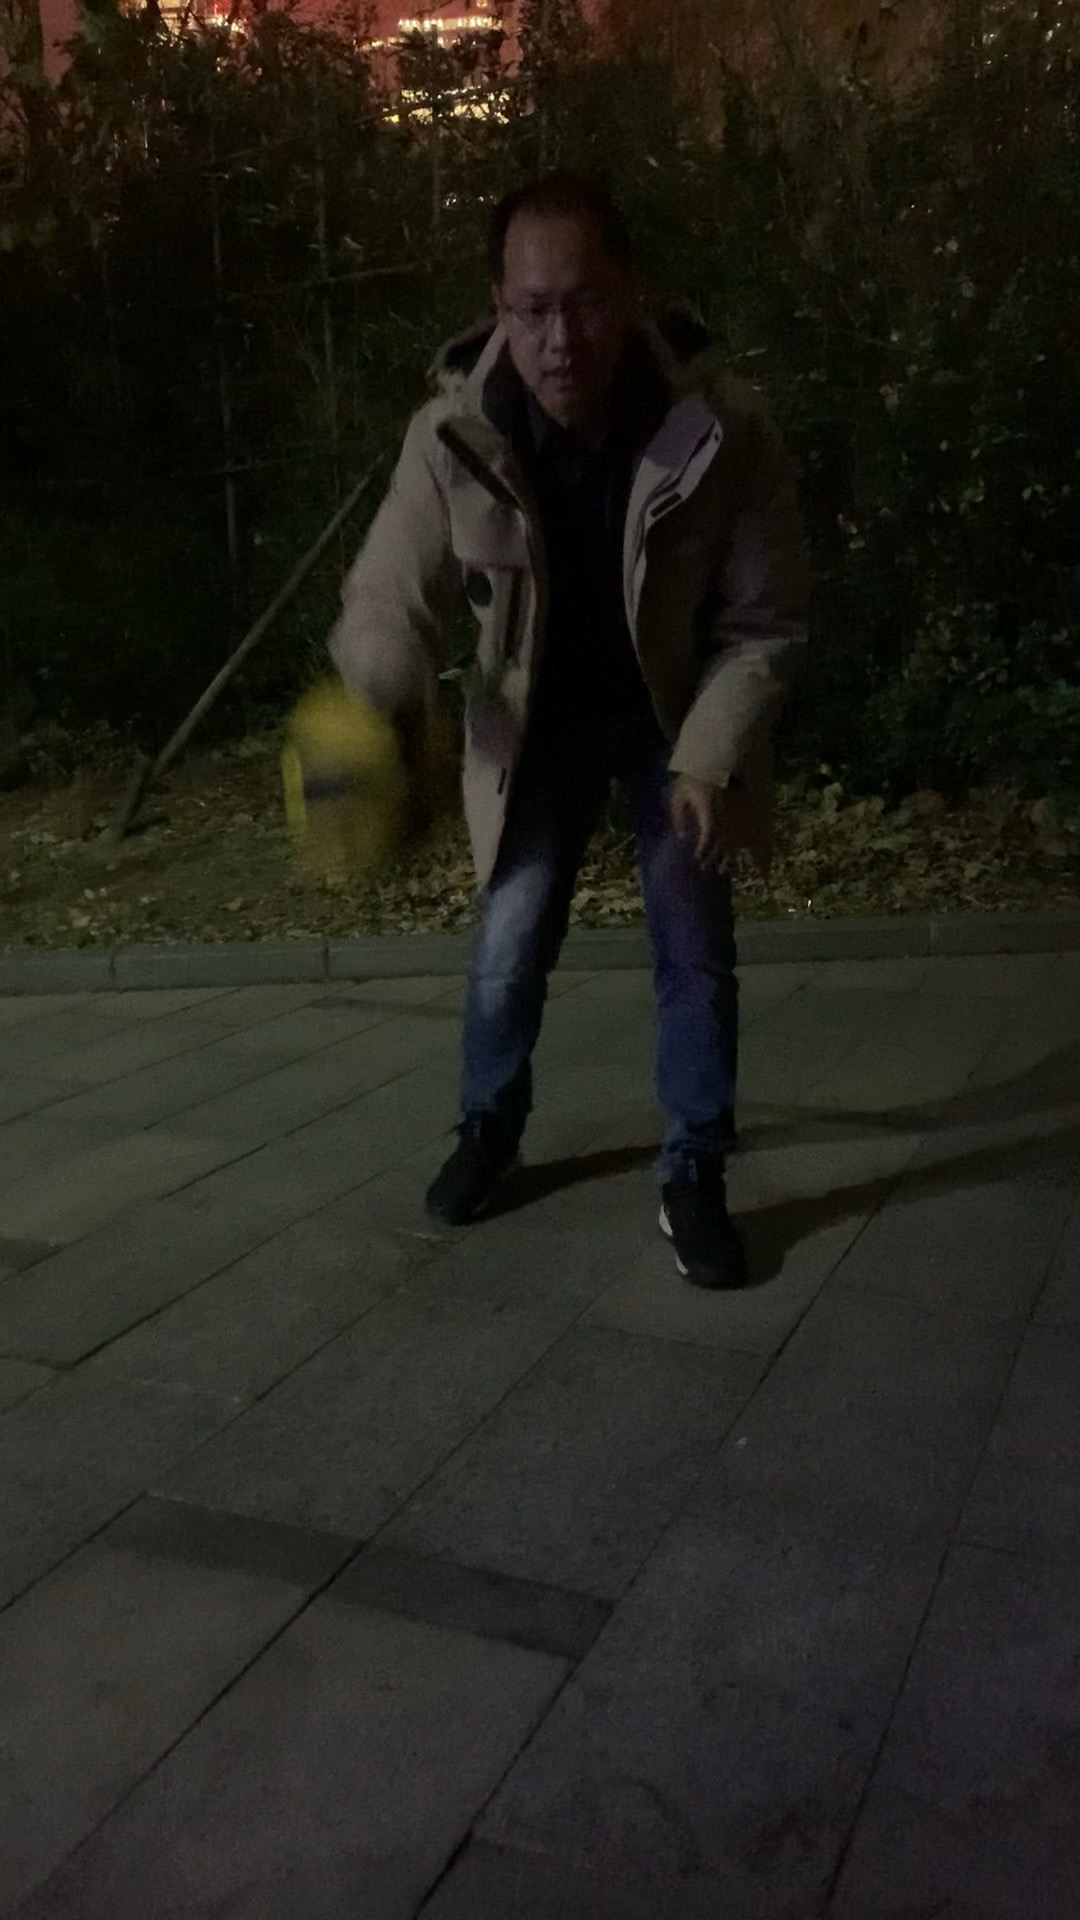ball: (277, 676, 475, 862)
